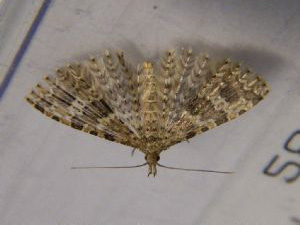Alucitidae: (17, 40, 273, 179)
moth: (19, 42, 275, 181)
